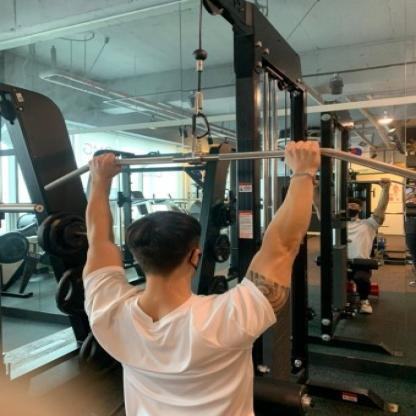Lat Pull Down: (27, 0, 416, 416)
